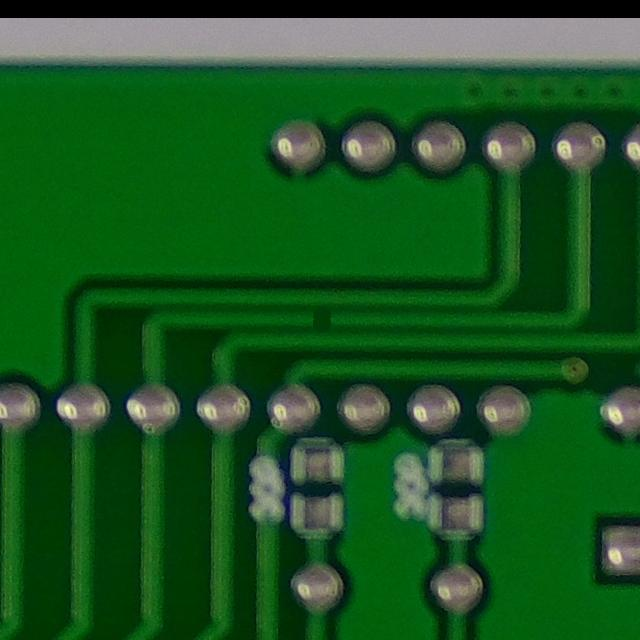open_circuit: (303, 305, 338, 334)
